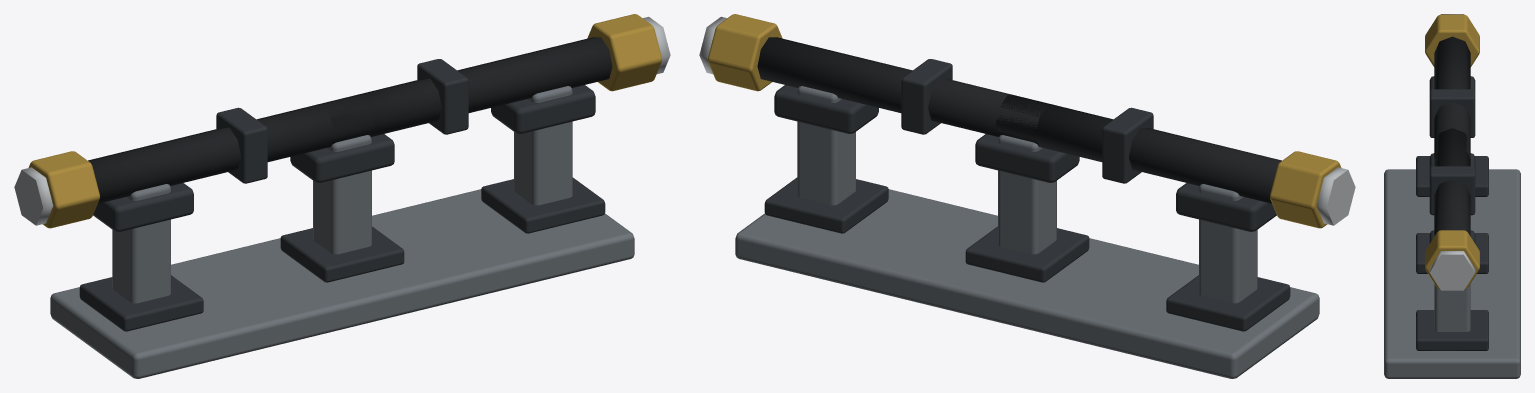
Rendered from pp_hose.glb.
3 views of the same model, side by side, from view 1: azimuth 30°, elevation 25°; view 2: azimuth 150°, elevation 25°; view 3: azimuth 270°, elevation 25° (orthographic). The views are drawn at different scales.
Visible parts, largest first — view 1: block.001, cyl.001, cyl.004, block.008, block.002, block.005, cyl.005, block.010, block.007, block.004, cyl.002, block.009 (+5 smaller); view 2: block.001, cyl.001, cyl.004, block.008, block.002, block.005, cyl.005, block.010, block.007, block.004, cyl.002, block.009 (+5 smaller); view 3: block.001, cyl.001, cyl.004, block.010, cyl.002, block.008, cyl, cyl.005, block, block.011, block.007, block.004 (+2 smaller).
Part boxes in pixels (x1=…): block.001: x1=50, y1=189, x2=634, y2=378; cyl.001: x1=88, y1=95, x2=373, y2=203; cyl.004: x1=327, y1=37, x2=612, y2=146; block.008: x1=514, y1=86, x2=572, y2=205; block.002: x1=313, y1=135, x2=371, y2=254; block.005: x1=112, y1=184, x2=170, y2=303; cyl.005: x1=587, y1=14, x2=661, y2=91; block.010: x1=481, y1=177, x2=605, y2=233; block.007: x1=79, y1=275, x2=203, y2=331; block.004: x1=280, y1=226, x2=404, y2=282; cyl.002: x1=28, y1=151, x2=99, y2=228; block.009: x1=491, y1=85, x2=595, y2=133; block.001: x1=735, y1=189, x2=1319, y2=378; cyl.001: x1=996, y1=95, x2=1281, y2=203; cyl.004: x1=757, y1=37, x2=1044, y2=146; block.008: x1=797, y1=86, x2=855, y2=205; block.002: x1=998, y1=135, x2=1056, y2=254; block.005: x1=1199, y1=184, x2=1257, y2=303; cyl.005: x1=708, y1=14, x2=782, y2=91; block.010: x1=764, y1=177, x2=888, y2=233; block.007: x1=1166, y1=275, x2=1290, y2=331; block.004: x1=965, y1=226, x2=1089, y2=282; cyl.002: x1=1270, y1=151, x2=1341, y2=228; block.009: x1=774, y1=85, x2=878, y2=133; block.001: x1=1384, y1=169, x2=1520, y2=378; cyl.001: x1=1434, y1=36, x2=1470, y2=158; cyl.004: x1=1434, y1=128, x2=1470, y2=236; block.010: x1=1416, y1=310, x2=1488, y2=350; cyl.002: x1=1425, y1=14, x2=1479, y2=67; block.008: x1=1434, y1=284, x2=1470, y2=331; cyl: x1=1429, y1=251, x2=1475, y2=290; cyl.005: x1=1425, y1=230, x2=1479, y2=289; block: x1=1429, y1=166, x2=1475, y2=215; block.011: x1=1429, y1=89, x2=1475, y2=137; block.007: x1=1416, y1=156, x2=1488, y2=196; block.004: x1=1416, y1=233, x2=1488, y2=273.
Size of the model in its own units: 1.25 by 0.3737 by 0.3.
